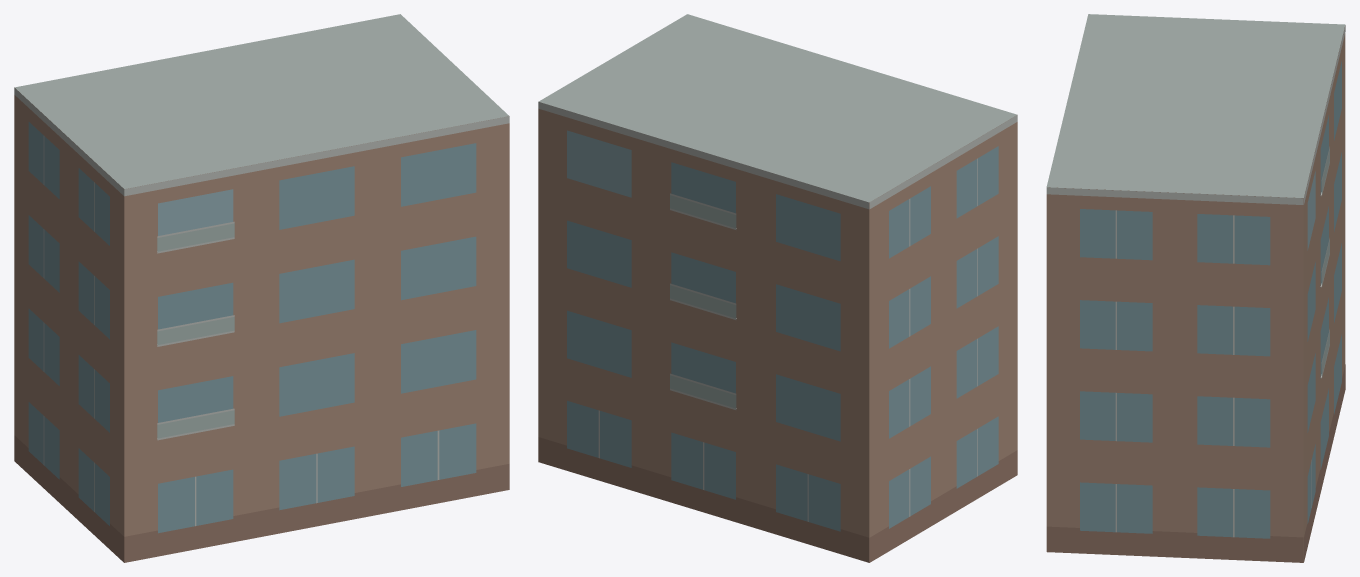
The model's file is survey-upis-32805383.glb.
3 renders of one model, left to right at view 1: azimuth 30°, elevation 25°; view 2: azimuth 150°, elevation 25°; view 3: azimuth 270°, elevation 25°, orthographic. The views are drawn at different scales.
Visible parts, largest first — view 1: survey-upis-32805383.tmp; view 2: survey-upis-32805383.tmp; view 3: survey-upis-32805383.tmp.
Boxes of the visible parts, x1,y1,x2,y2 form: survey-upis-32805383.tmp: (14, 14, 509, 562); survey-upis-32805383.tmp: (538, 14, 1017, 562); survey-upis-32805383.tmp: (1046, 14, 1345, 562).
Bounding box in the file's own units: 13.75 × 12.69 × 9.44.
